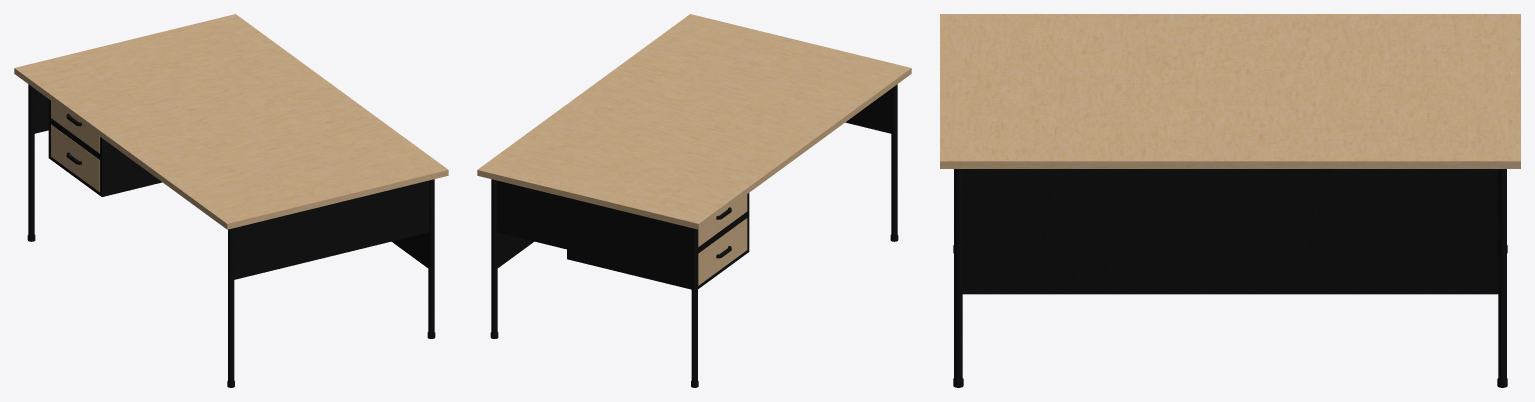
The model's file is office_table.obj.
3 views of the same model, side by side, from view 1: azimuth 30°, elevation 25°; view 2: azimuth 150°, elevation 25°; view 3: azimuth 270°, elevation 25° (orthographic). The views are drawn at different scales.
Visible parts, largest first — view 1: office_table, latch_2, latch_1; view 2: office_table, latch_2, latch_1; view 3: office_table.
Part boxes in pixels (<box>): office_table: <box>14,14,448,387</box>; latch_2: <box>51,124,99,191</box>; latch_1: <box>51,101,99,153</box>; office_table: <box>477,14,911,387</box>; latch_2: <box>698,218,747,285</box>; latch_1: <box>698,194,747,246</box>; office_table: <box>940,14,1520,387</box>.
Size of the model in its own units: 1.2 by 0.88 by 2.
2 materials, 2 textured.
